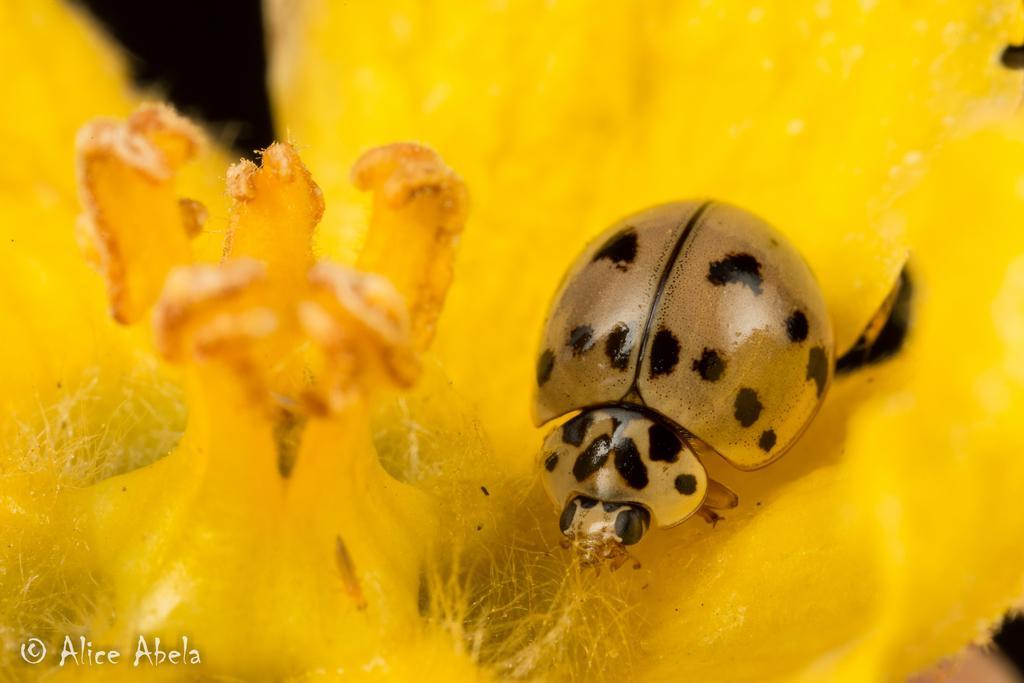ladybug: (529, 193, 917, 585)
